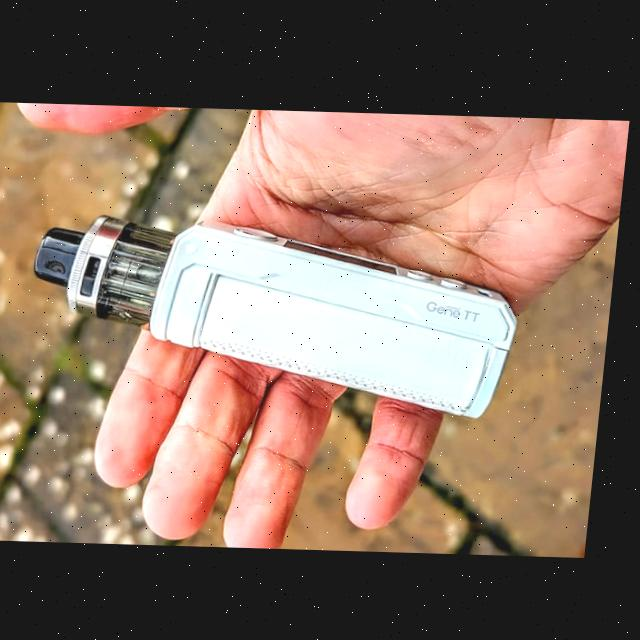vape: (27, 210, 532, 418)
